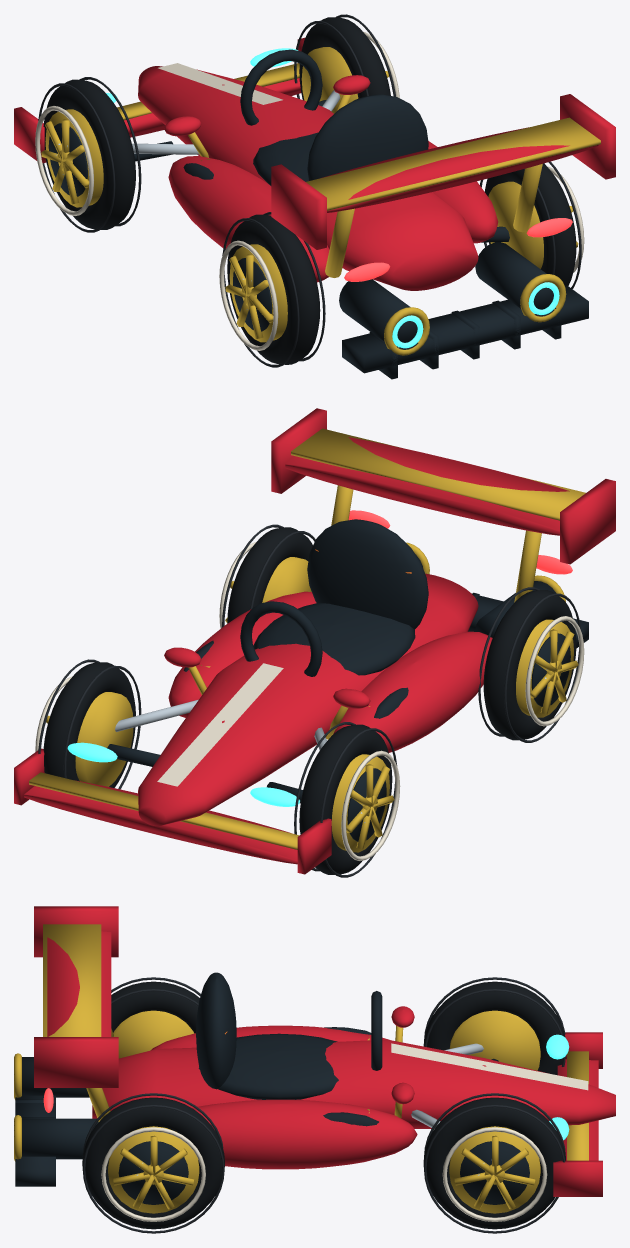
The model's file is kart_formula_red.glb.
3 renders of one model, top to bottom at view 1: azimuth 30°, elevation 25°; view 2: azimuth 150°, elevation 25°; view 3: azimuth 270°, elevation 25°, orthographic. The views are drawn at different scales.
Visible parts, largest first — view 1: body, wheel-front-left, wheel-back-left, wheel-back-right, wheel-front-right; view 2: body, wheel-back-left, wheel-front-left, wheel-front-right, wheel-back-right; view 3: body, wheel-back-right, wheel-front-right, wheel-front-left, wheel-back-left.
Part boxes in pixels (bbox=[...]): body: bbox=[14, 37, 615, 379]; wheel-front-left: bbox=[35, 77, 141, 232]; wheel-back-left: bbox=[219, 212, 325, 367]; wheel-back-right: bbox=[480, 161, 584, 288]; wheel-front-right: bbox=[294, 14, 399, 113]; body: bbox=[14, 408, 615, 874]; wheel-back-left: bbox=[478, 587, 584, 742]; wheel-front-left: bbox=[294, 722, 400, 877]; wheel-front-right: bbox=[35, 659, 141, 789]; wheel-back-right: bbox=[219, 524, 315, 628]; body: bbox=[14, 906, 615, 1196]; wheel-back-right: bbox=[82, 1093, 224, 1233]; wheel-front-right: bbox=[423, 1093, 565, 1233]; wheel-front-left: bbox=[423, 977, 565, 1075]; wheel-back-left: bbox=[111, 977, 200, 1058].
Size of the model in its own units: 2.28 by 1.49 by 4.13.
